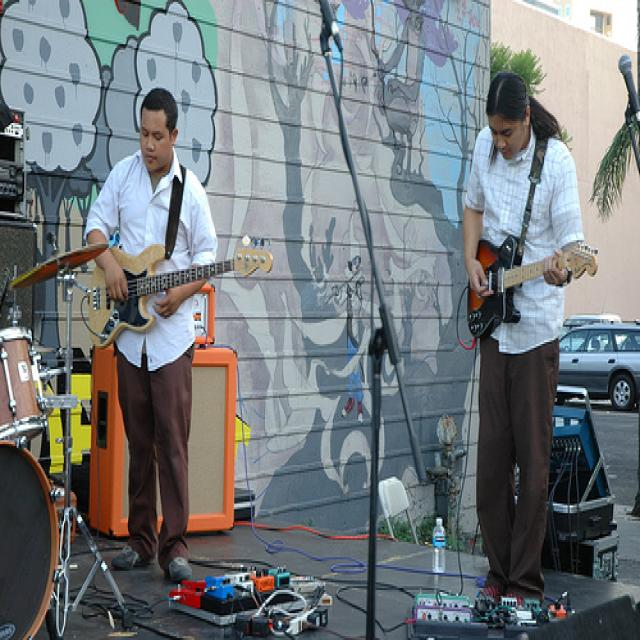light_vehicle: (558, 325, 639, 415)
